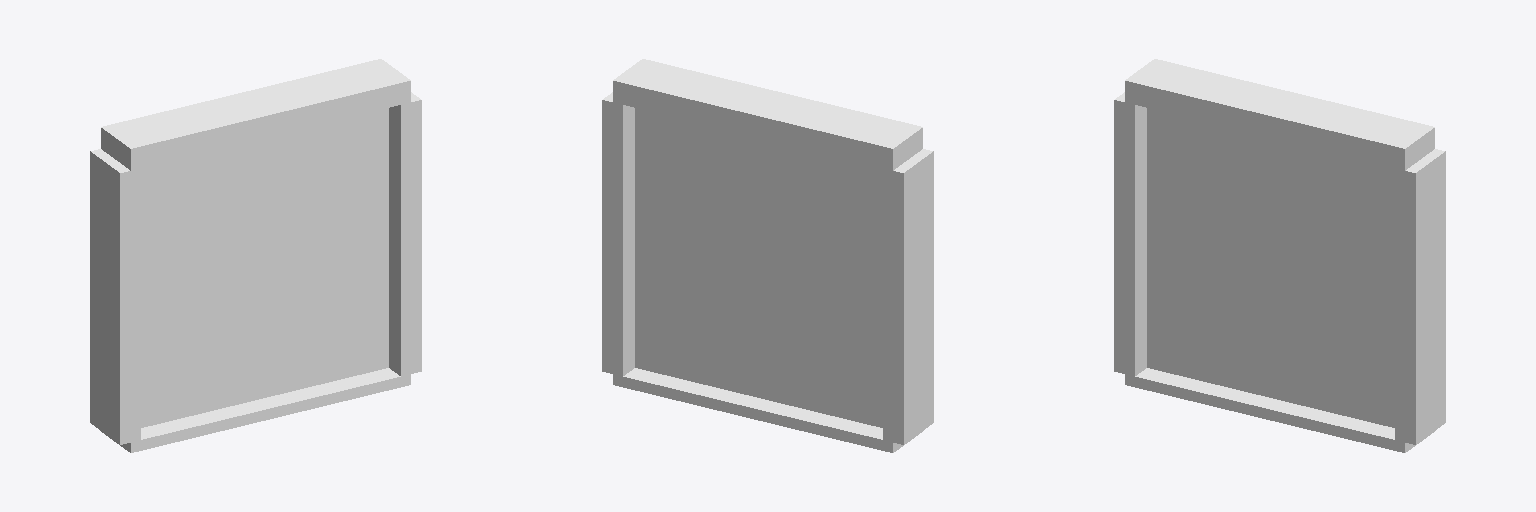
Rendered from ModelsFedaHome-3.obj.
3 renders of one model, left to right at view 1: azimuth 30°, elevation 25°; view 2: azimuth 150°, elevation 25°; view 3: azimuth 330°, elevation 25°, orthographic.
Parts seen in each view (by area): view 1: object 1; view 2: object 1; view 3: object 1.
Part boxes in pixels (left/top/right/bottom): object 1: left=90, top=59, right=421, bottom=452; object 1: left=602, top=59, right=933, bottom=452; object 1: left=1114, top=59, right=1445, bottom=452.
Size of the model in its own units: 2.9 by 2.8 by 0.5.